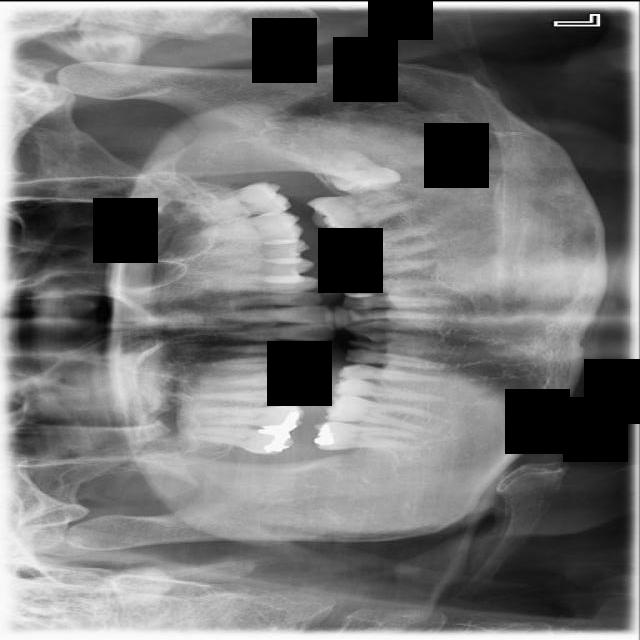52: (240, 425, 295, 457), (253, 403, 305, 431), (314, 420, 360, 450), (346, 290, 363, 297)
73: (519, 103, 532, 110)
BioHorizons Implant: (177, 178, 293, 221)
Biomet 3i Implant: (311, 144, 405, 199)
Blue Sky Bio Implant: (306, 182, 425, 242)
Caries: (184, 422, 294, 456)
Implant: (314, 421, 417, 450)
